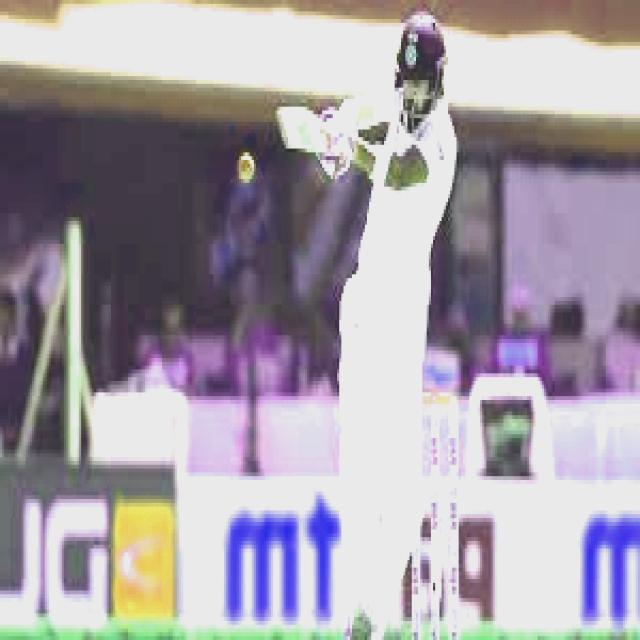toe: (273, 104, 294, 150)
